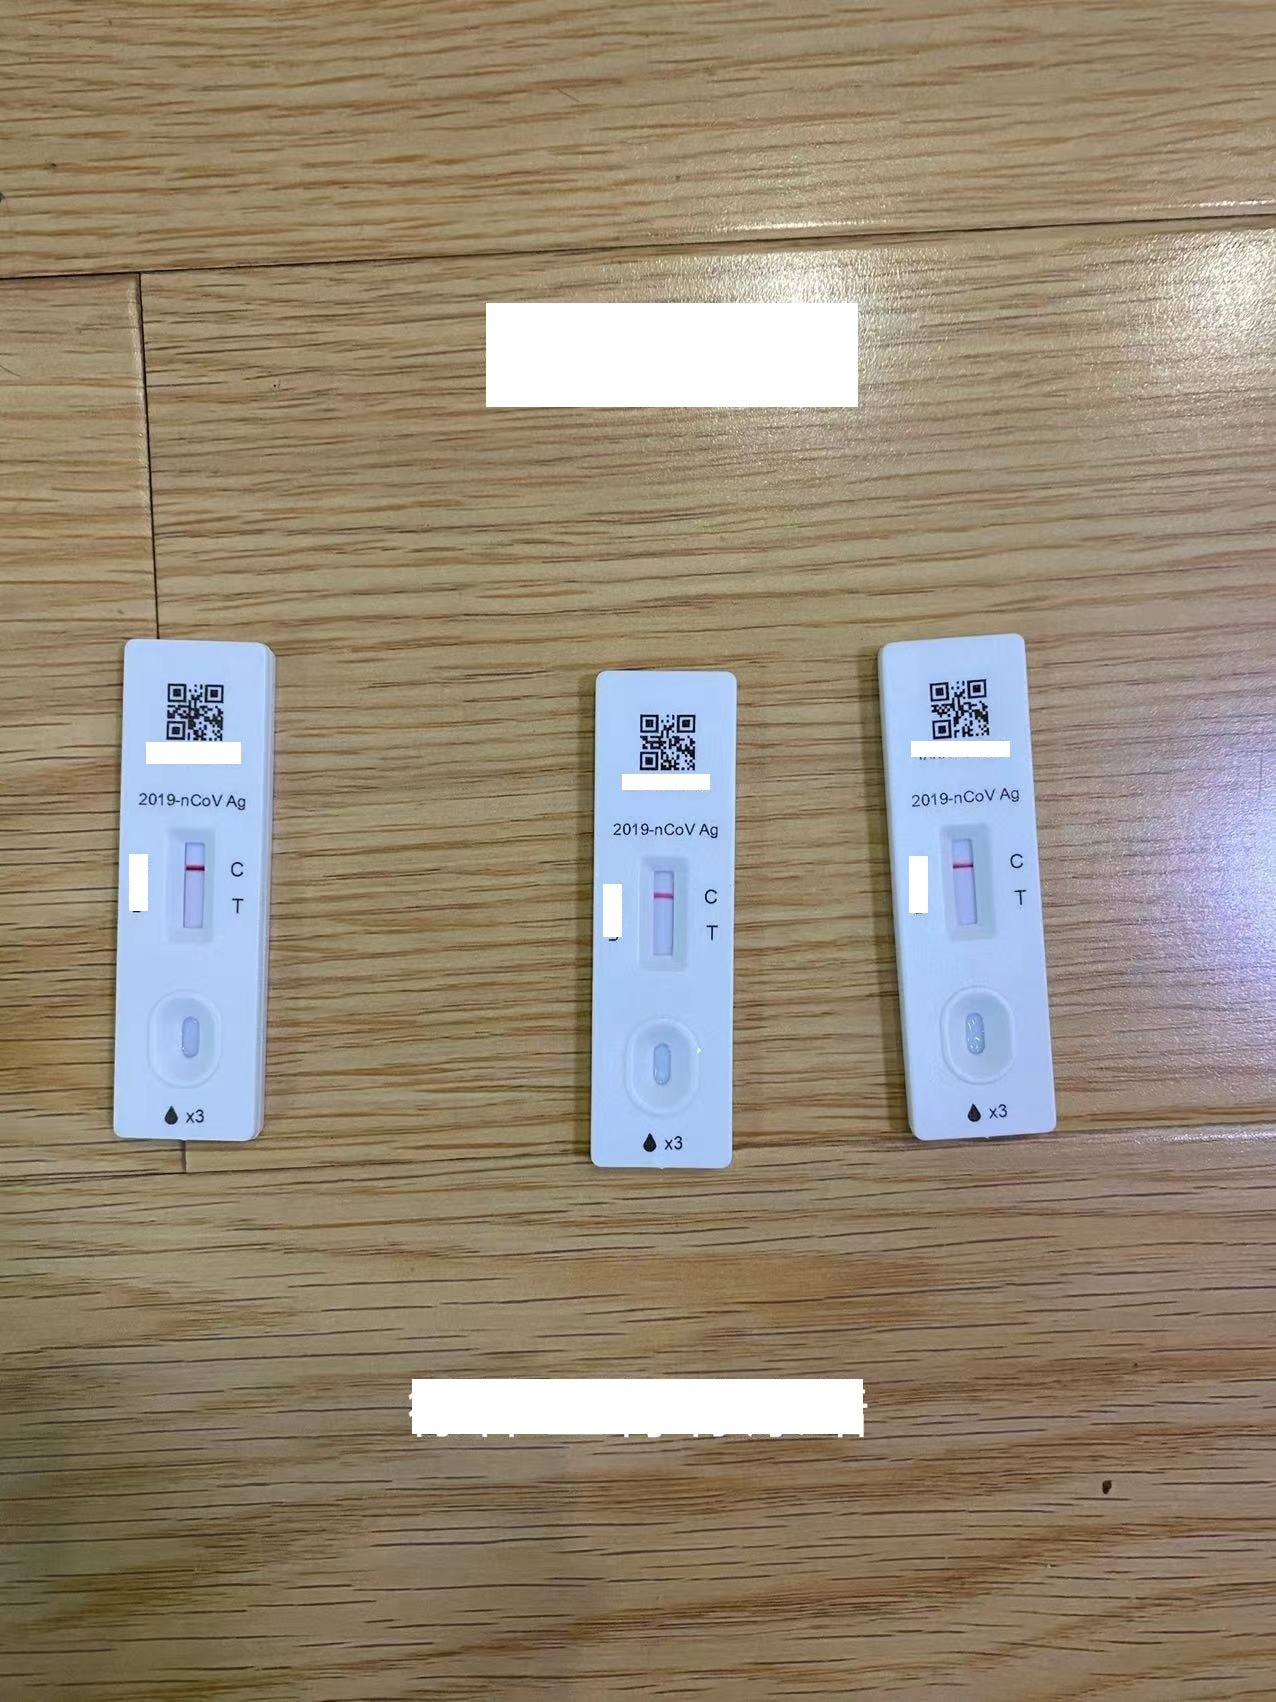negative: (940, 817, 992, 935), (642, 860, 682, 966), (169, 830, 209, 935)
